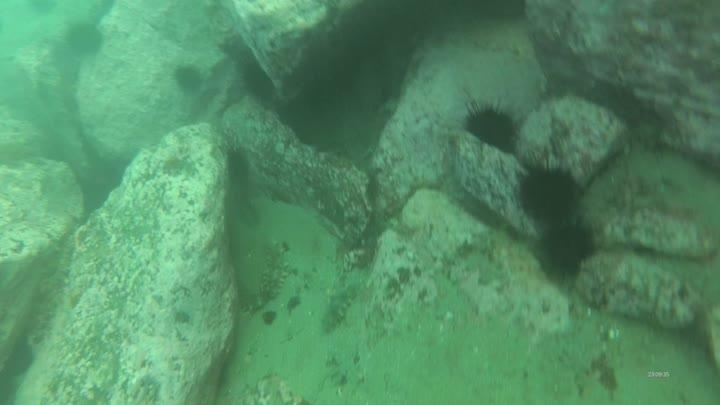echinus: (514, 158, 584, 225), (535, 218, 599, 279), (461, 100, 522, 155), (63, 20, 106, 59), (239, 61, 278, 103), (222, 146, 253, 187), (171, 62, 205, 95)
holothurian: (318, 273, 363, 335), (255, 238, 293, 307)
